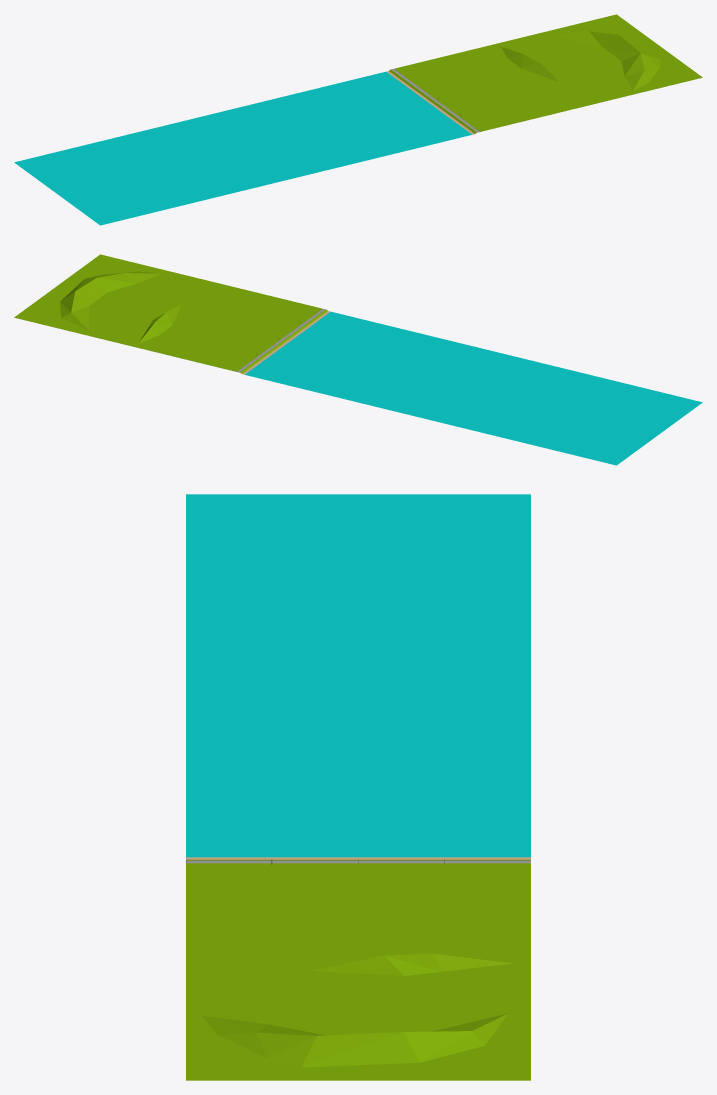
Rendered from searoad06.glb.
The picture shows the model from 3 angles, top to bottom: view 1: azimuth 30°, elevation 25°; view 2: azimuth 150°, elevation 25°; view 3: azimuth 270°, elevation 25°; orthographic projection. The views are drawn at different scales.
Visible parts, largest first — view 1: Geom3D (×2); view 2: Geom3D (×2); view 3: Geom3D (×4).
Boxes of the visible parts, left/top/right/bottom form: Geom3D (×2): left=14, top=14, right=702, bottom=225; Geom3D (×2): left=14, top=254, right=702, bottom=465; Geom3D (×4): left=186, top=494, right=530, bottom=1080.
Bounding box in the file's own units: 1.65e+07 × 284934 × 4085865.
8 materials, 3 textured.
